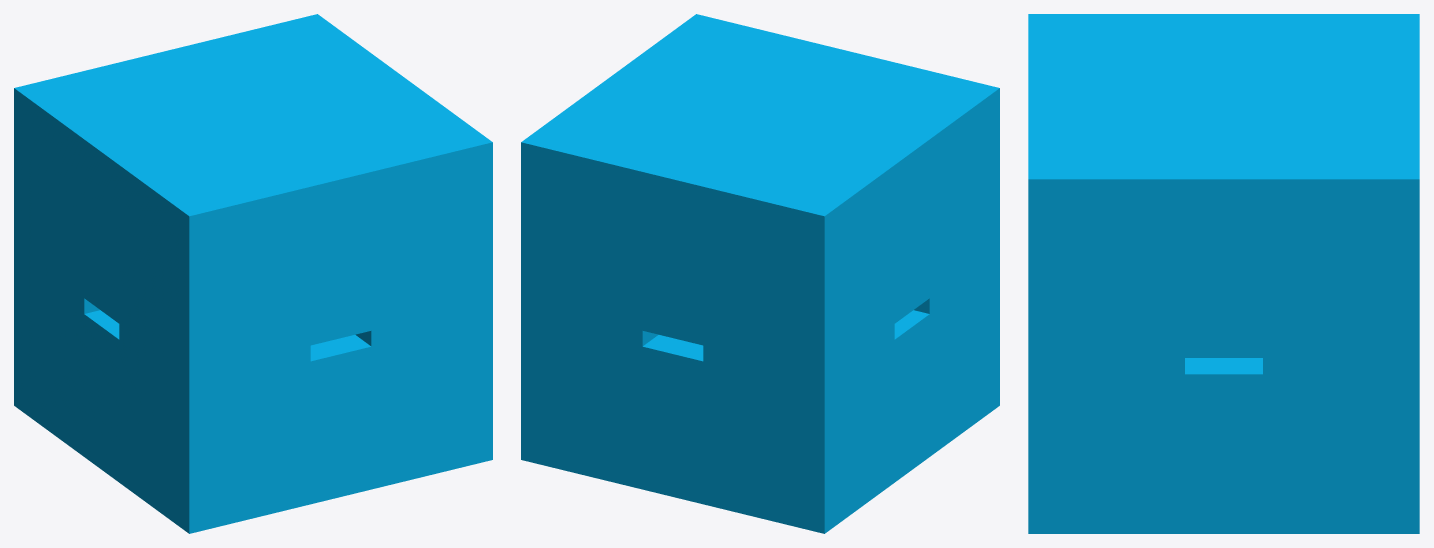
File: perp_Z_dik_yuzey_cep.gltf
The picture shows the model from 3 angles, left to right: view 1: azimuth 30°, elevation 25°; view 2: azimuth 150°, elevation 25°; view 3: azimuth 270°, elevation 25°; orthographic projection. The views are drawn at different scales.
Parts seen in each view (by area): view 1: Open CASCADE STEP translator 7.8 19; view 2: Open CASCADE STEP translator 7.8 19; view 3: Open CASCADE STEP translator 7.8 19.
Part boxes in pixels (<box>): Open CASCADE STEP translator 7.8 19: <box>14,14,492,533</box>; Open CASCADE STEP translator 7.8 19: <box>521,14,999,533</box>; Open CASCADE STEP translator 7.8 19: <box>1028,14,1419,533</box>.
Size of the model in its own units: 0.01 by 0.01 by 0.01.
